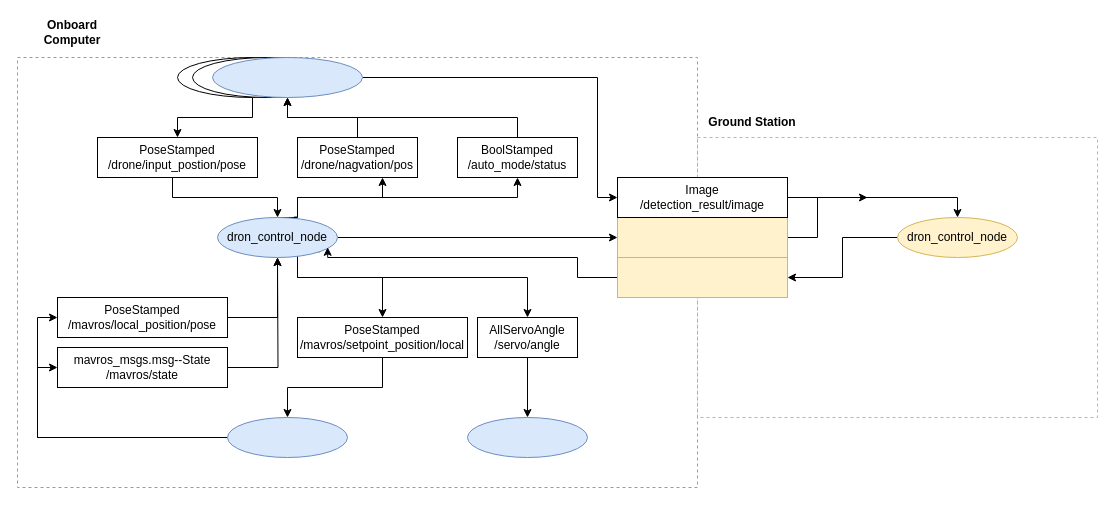
The diagram is 1115 pixels wide and 505 high, and some of its shapes have lost their labels. The box of each missing label's shape, as (x1, y1, x2, y2) in pixels:
GetDroneState /drone/current/control_status: (616, 216, 788, 258)
Mavros: (226, 416, 348, 458)
servo_node: (466, 416, 588, 458)
SetDroneState /drone/set/control_status: (616, 256, 788, 298)
vision_nagvation _nodes: (212, 56, 362, 98)
